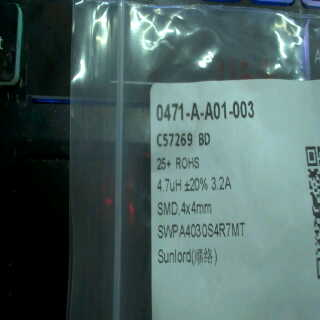4.7uH: (153, 171, 183, 193)
